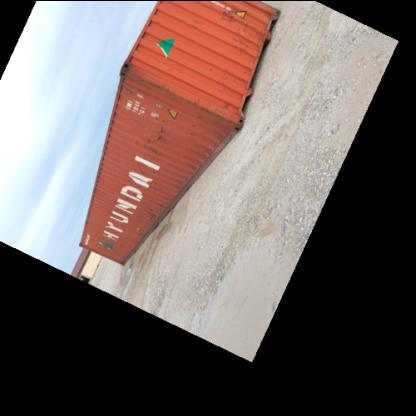Damage: (185, 86, 237, 134), (121, 53, 166, 105), (133, 122, 173, 158), (132, 196, 166, 238), (212, 3, 246, 31), (225, 40, 254, 62)
